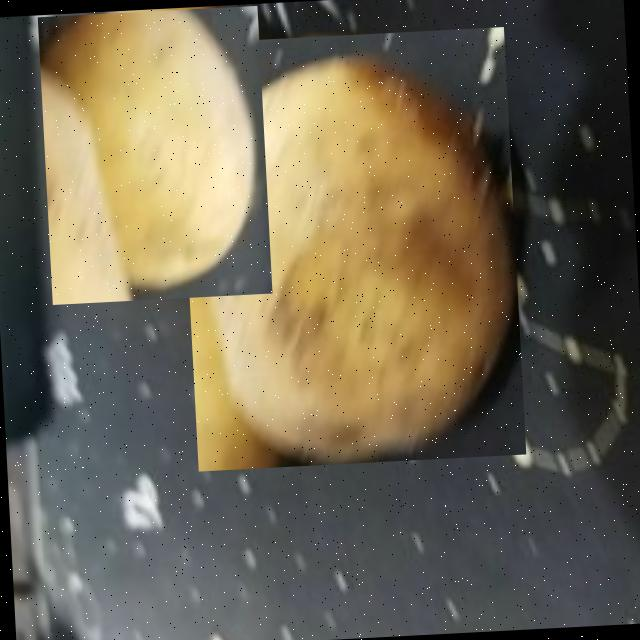Damaged potato: (176, 26, 526, 471)
Potato: (38, 5, 272, 304)
